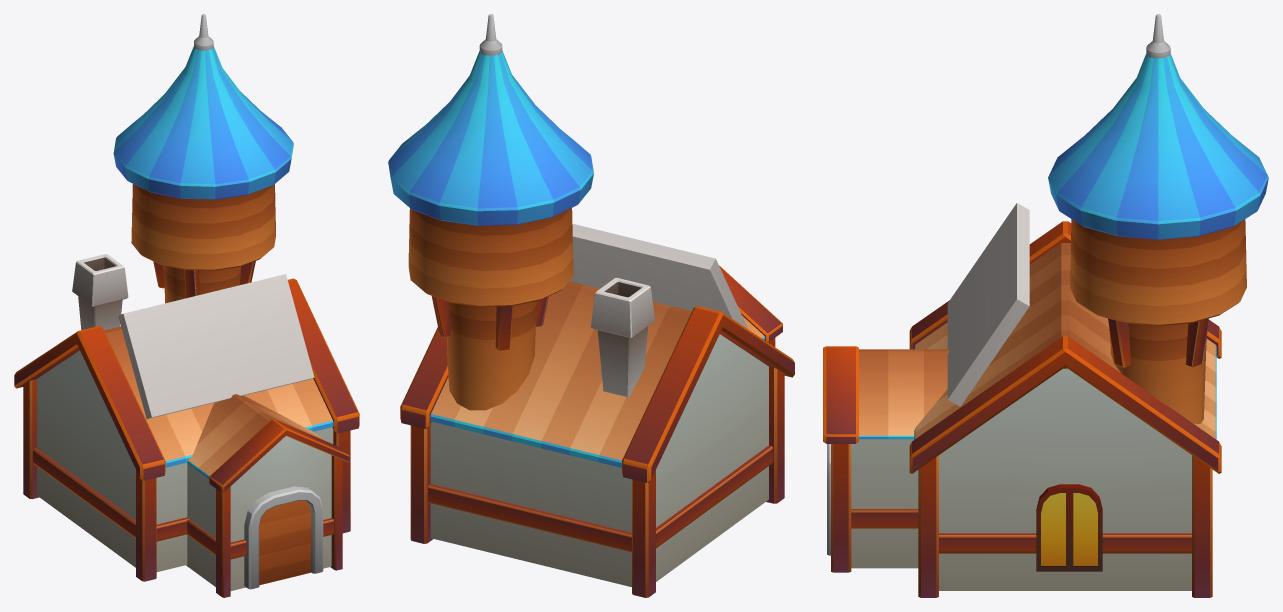
The model's file is Silver_House_3.fbx.
The picture shows the model from 3 angles, left to right: view 1: azimuth 30°, elevation 25°; view 2: azimuth 150°, elevation 25°; view 3: azimuth 270°, elevation 25°; orthographic projection. The views are drawn at different scales.
Parts seen in each view (by area): view 1: Silver_House_Lv3; view 2: Silver_House_Lv3; view 3: Silver_House_Lv3.
Boxes of the visible parts, <box> form: Silver_House_Lv3: <box>14,14,359,597</box>; Silver_House_Lv3: <box>388,14,794,597</box>; Silver_House_Lv3: <box>823,14,1268,597</box>.
Bounding box in the file's own units: 0.8891 × 1.59 × 1.16.
1 material, 1 textured.
